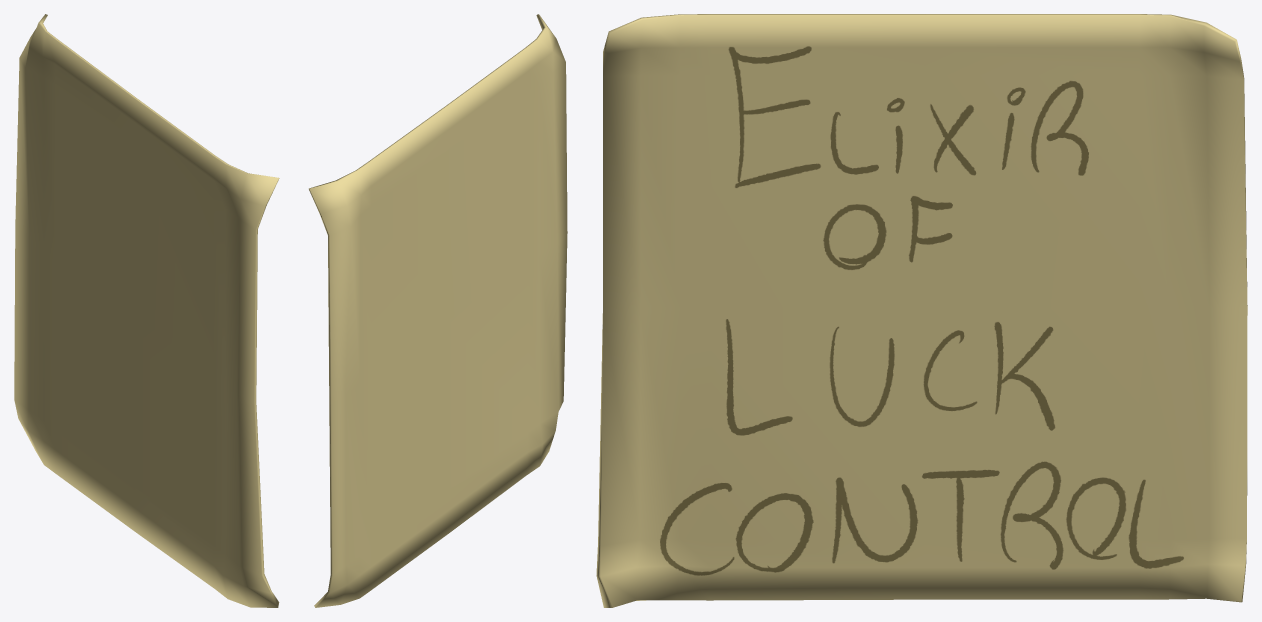
Rendered from papelElixirOfLuckControl.fbx.
3 renders of one model, left to right at view 1: azimuth 30°, elevation 25°; view 2: azimuth 150°, elevation 25°; view 3: azimuth 270°, elevation 25°, orthographic. The views are drawn at different scales.
Parts seen in each view (by area): view 1: Papel; view 2: Papel; view 3: Papel.
Boxes of the visible parts, bbox=[...] form: Papel: bbox=[14, 14, 279, 607]; Papel: bbox=[309, 14, 567, 607]; Papel: bbox=[596, 14, 1247, 607].
Size of the model in its own units: 16.28 by 200 by 202.
